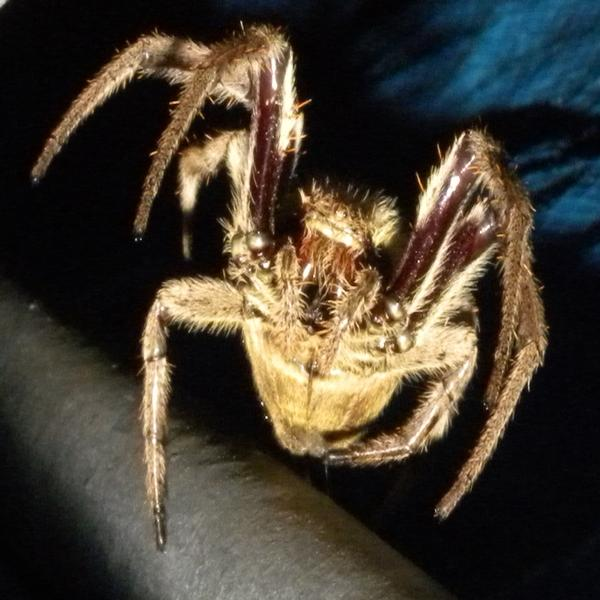Garden Orb Weaver Spider: (58, 35, 545, 518)
